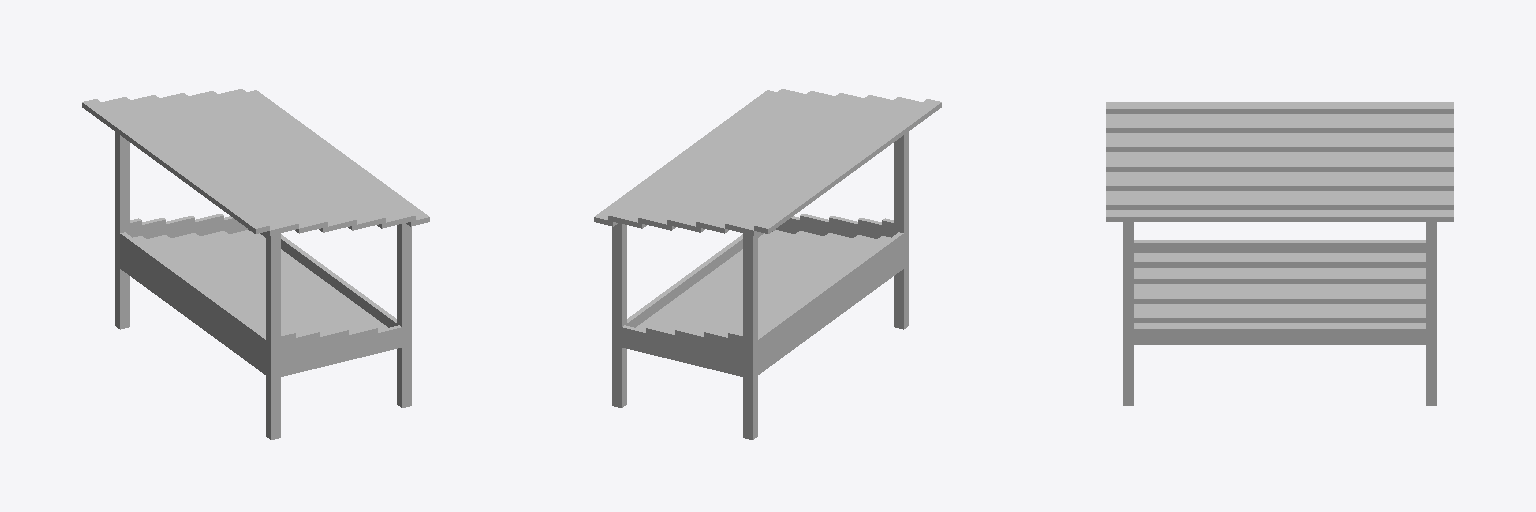
Rendered from stragan 2.obj.
3 renders of one model, left to right at view 1: azimuth 30°, elevation 25°; view 2: azimuth 150°, elevation 25°; view 3: azimuth 270°, elevation 25°, orthographic.
Visible parts, largest first — view 1: object 1; view 2: object 1; view 3: object 1.
Boxes of the visible parts, x1,y1,x2,y2 form: object 1: [82, 89, 429, 439]; object 1: [594, 89, 941, 439]; object 1: [1106, 102, 1453, 405].
Size of the model in its own units: 7.2 by 8.8 by 12.4.